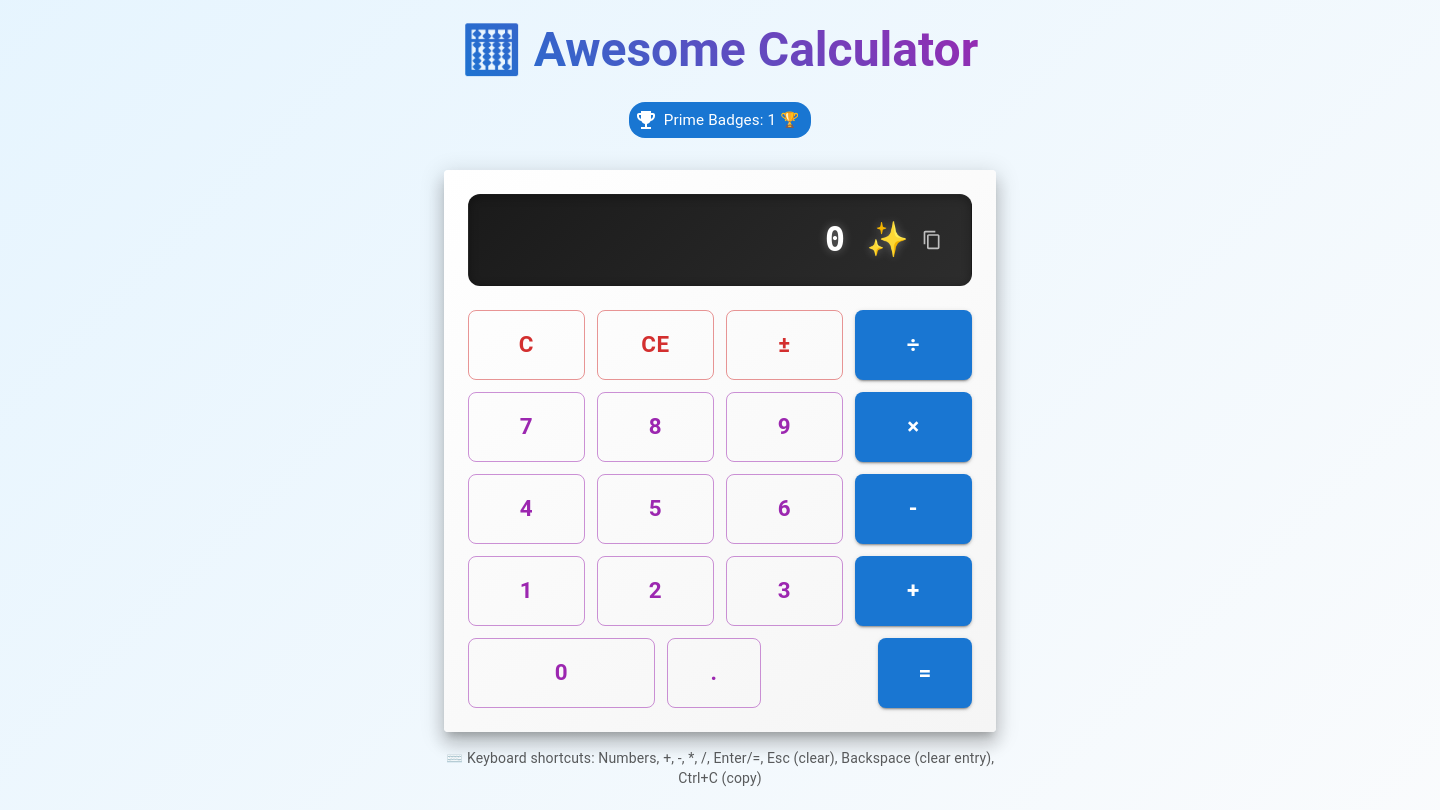
Scenario: Calculator › Arithmetic Operations › performs multiplication correctly
Step 1. Click the button "6" → coordinates (784, 509), box [726,474,843,544]
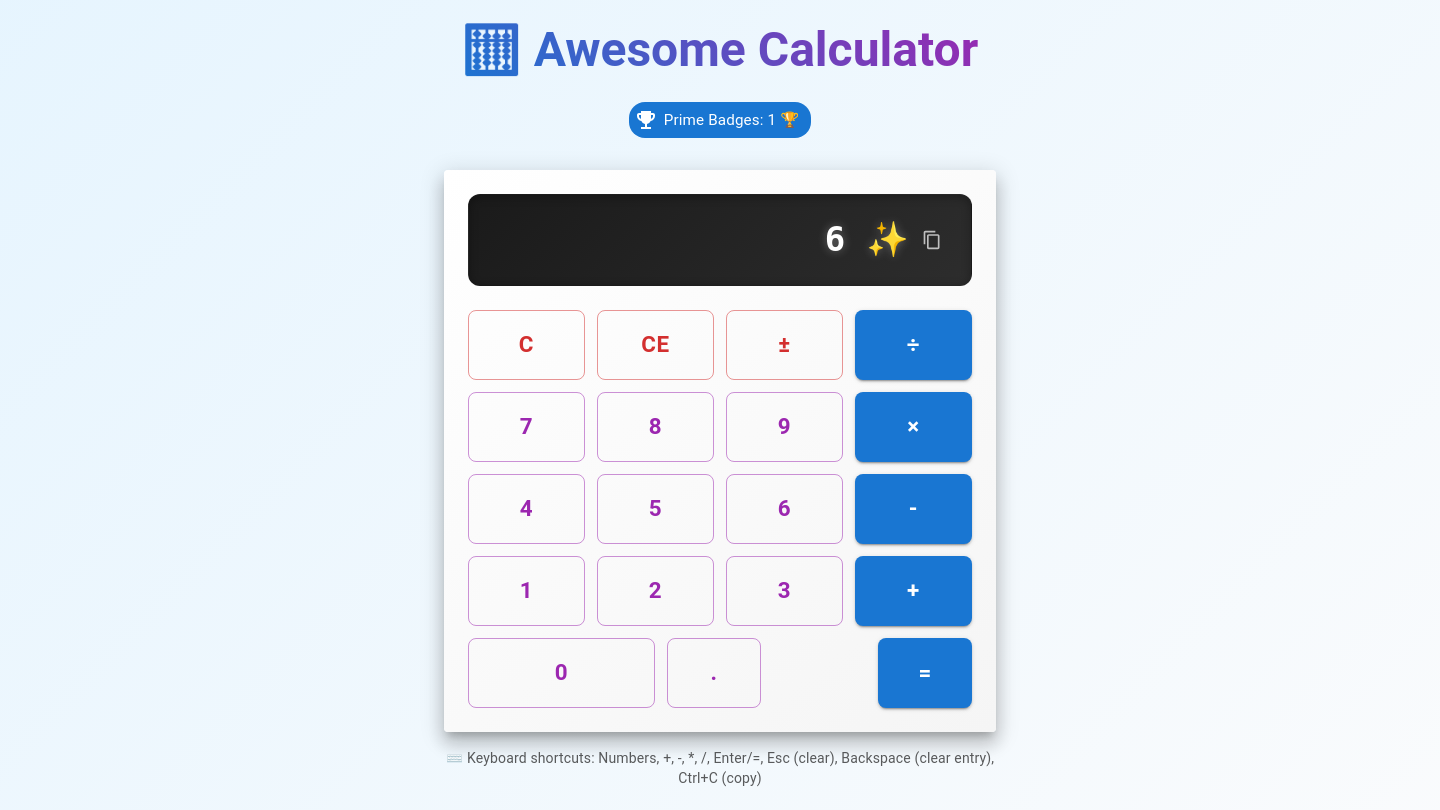
Step 2. Click the button "×" → coordinates (914, 427), box [855,392,972,462]
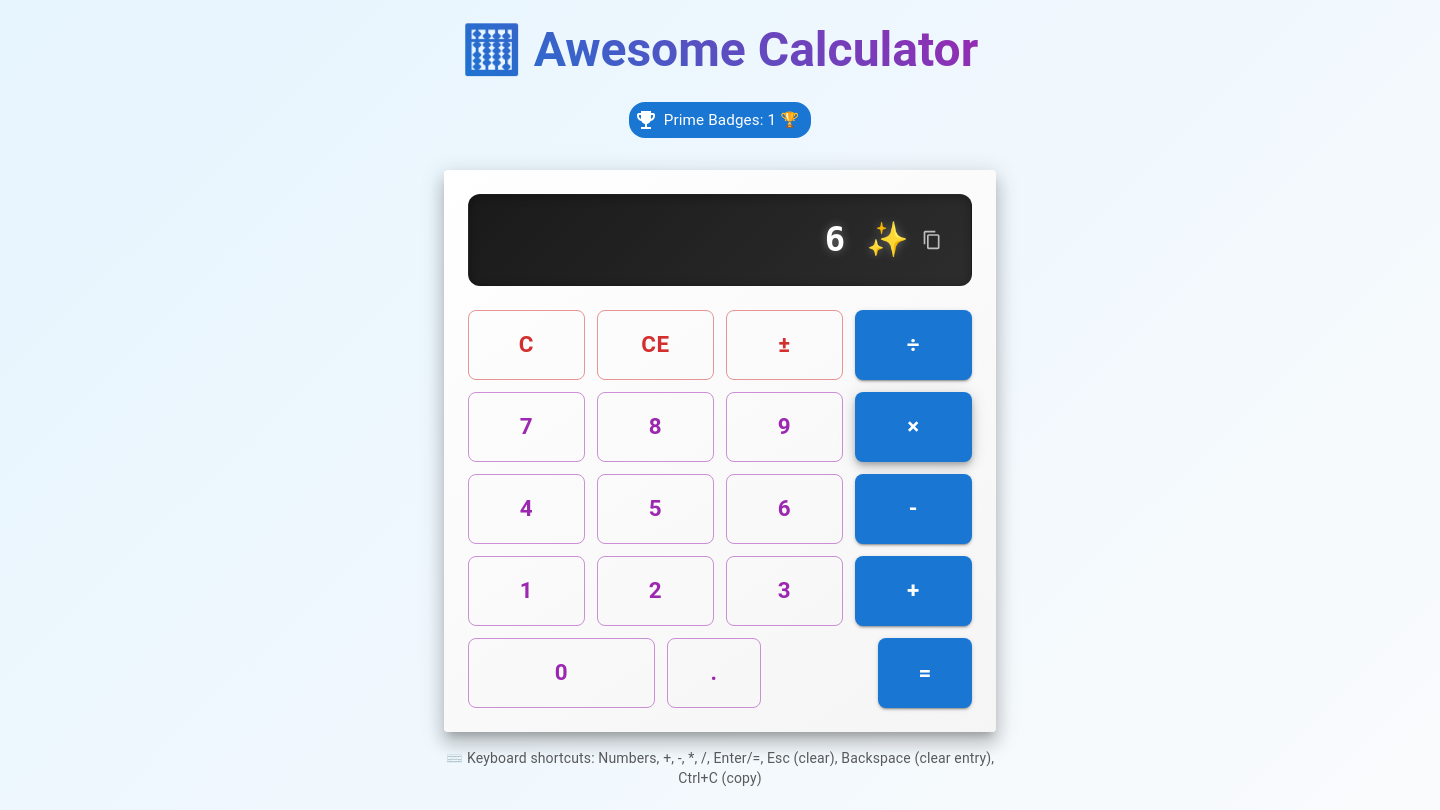
Step 3. Click the button "7" → coordinates (526, 427), box [468,392,585,462]
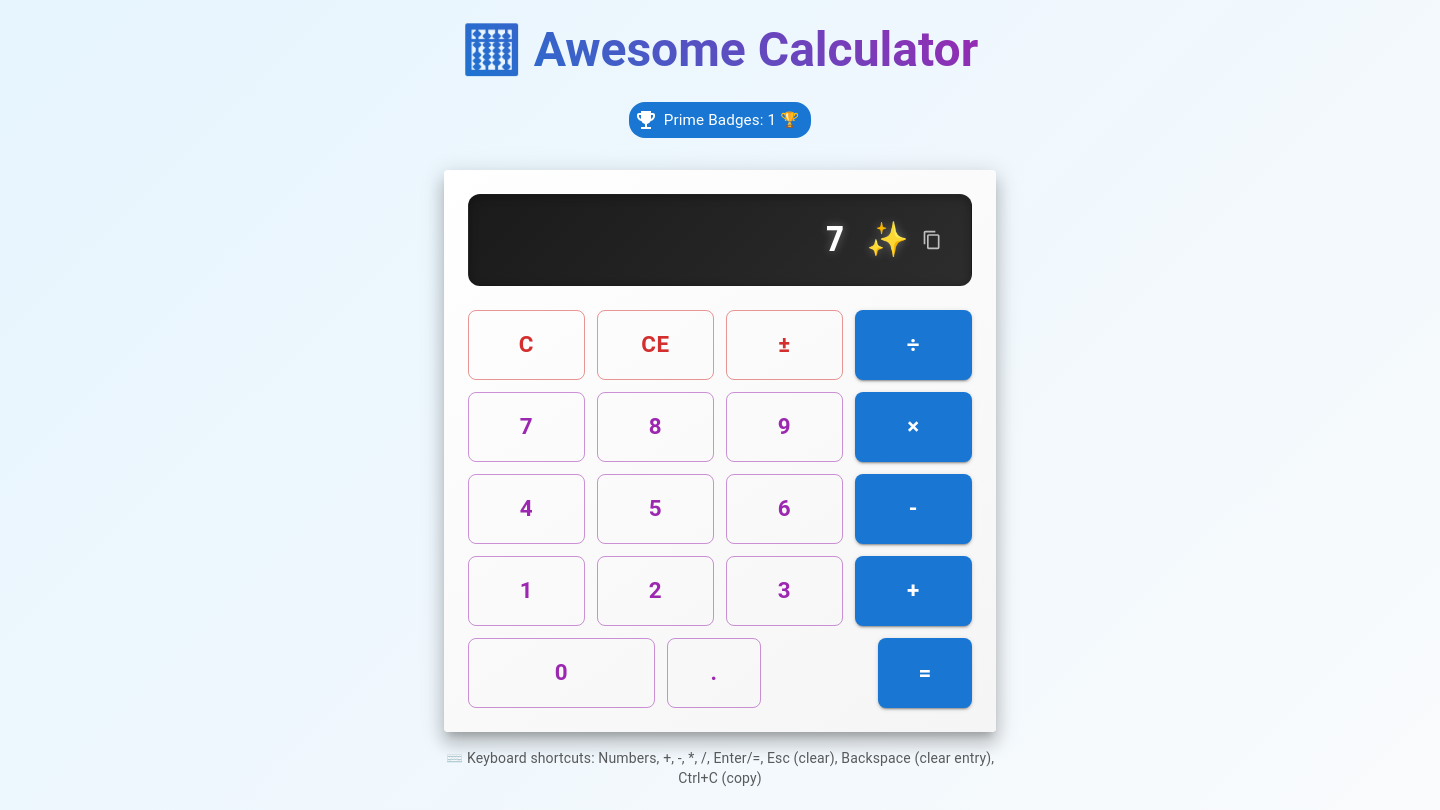
Step 4. Click the button "=" → coordinates (925, 673), box [878,638,972,708]
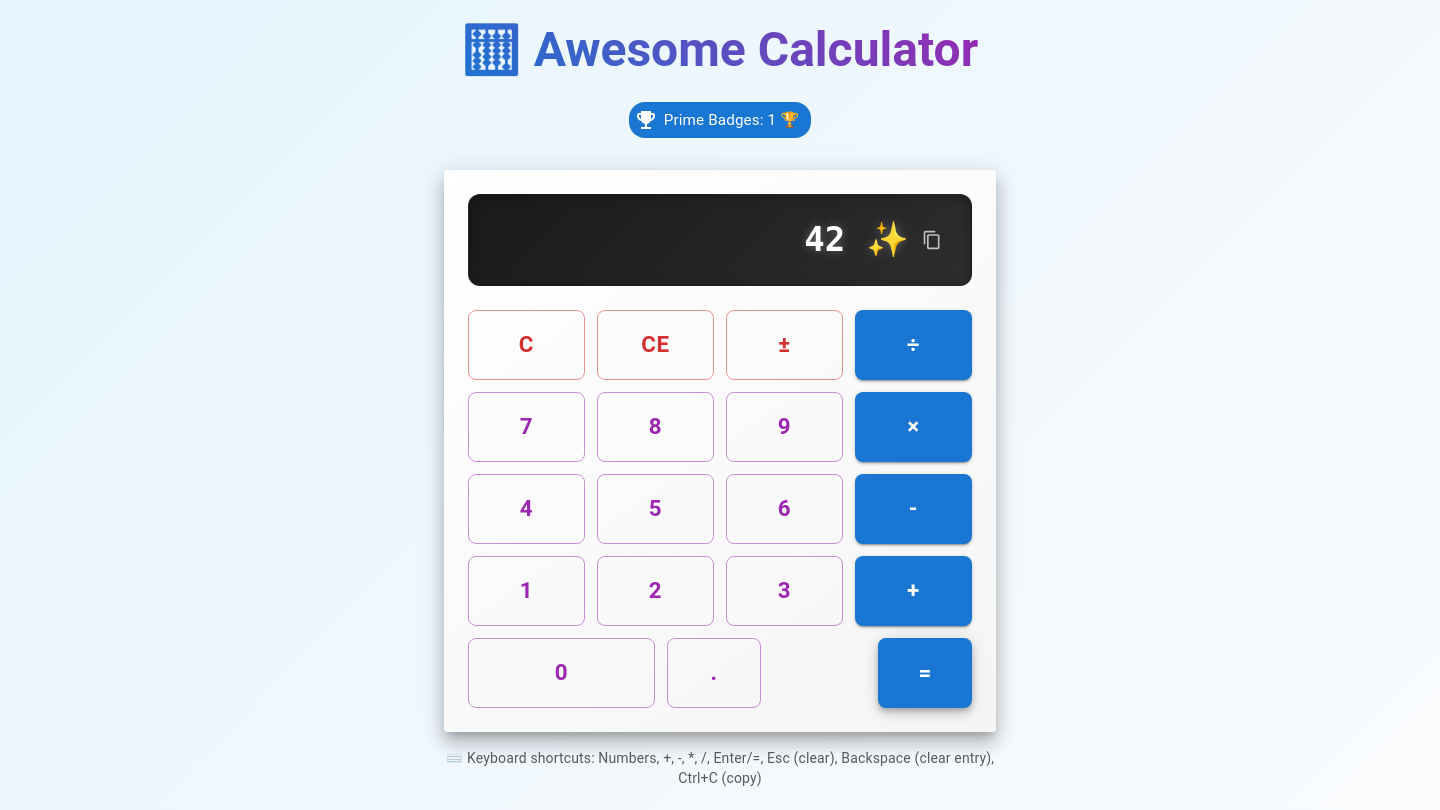
Check: the text "42 ✨" is shown, box [804,219,909,261]
